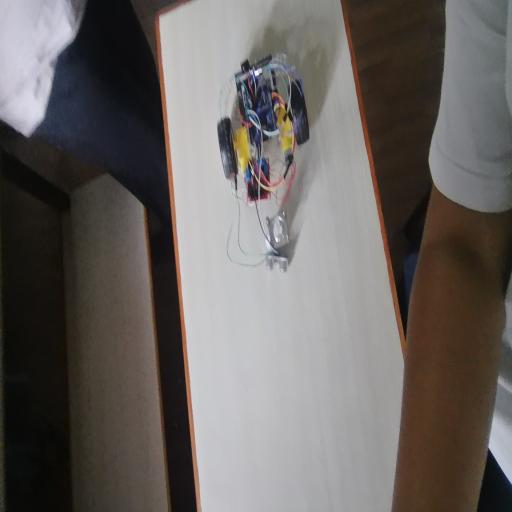car: (203, 38, 320, 249)
